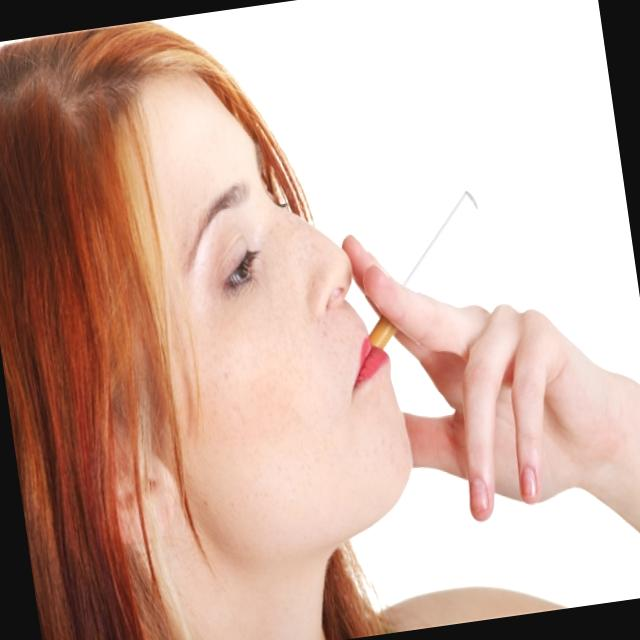smoke: (388, 180, 490, 288)
